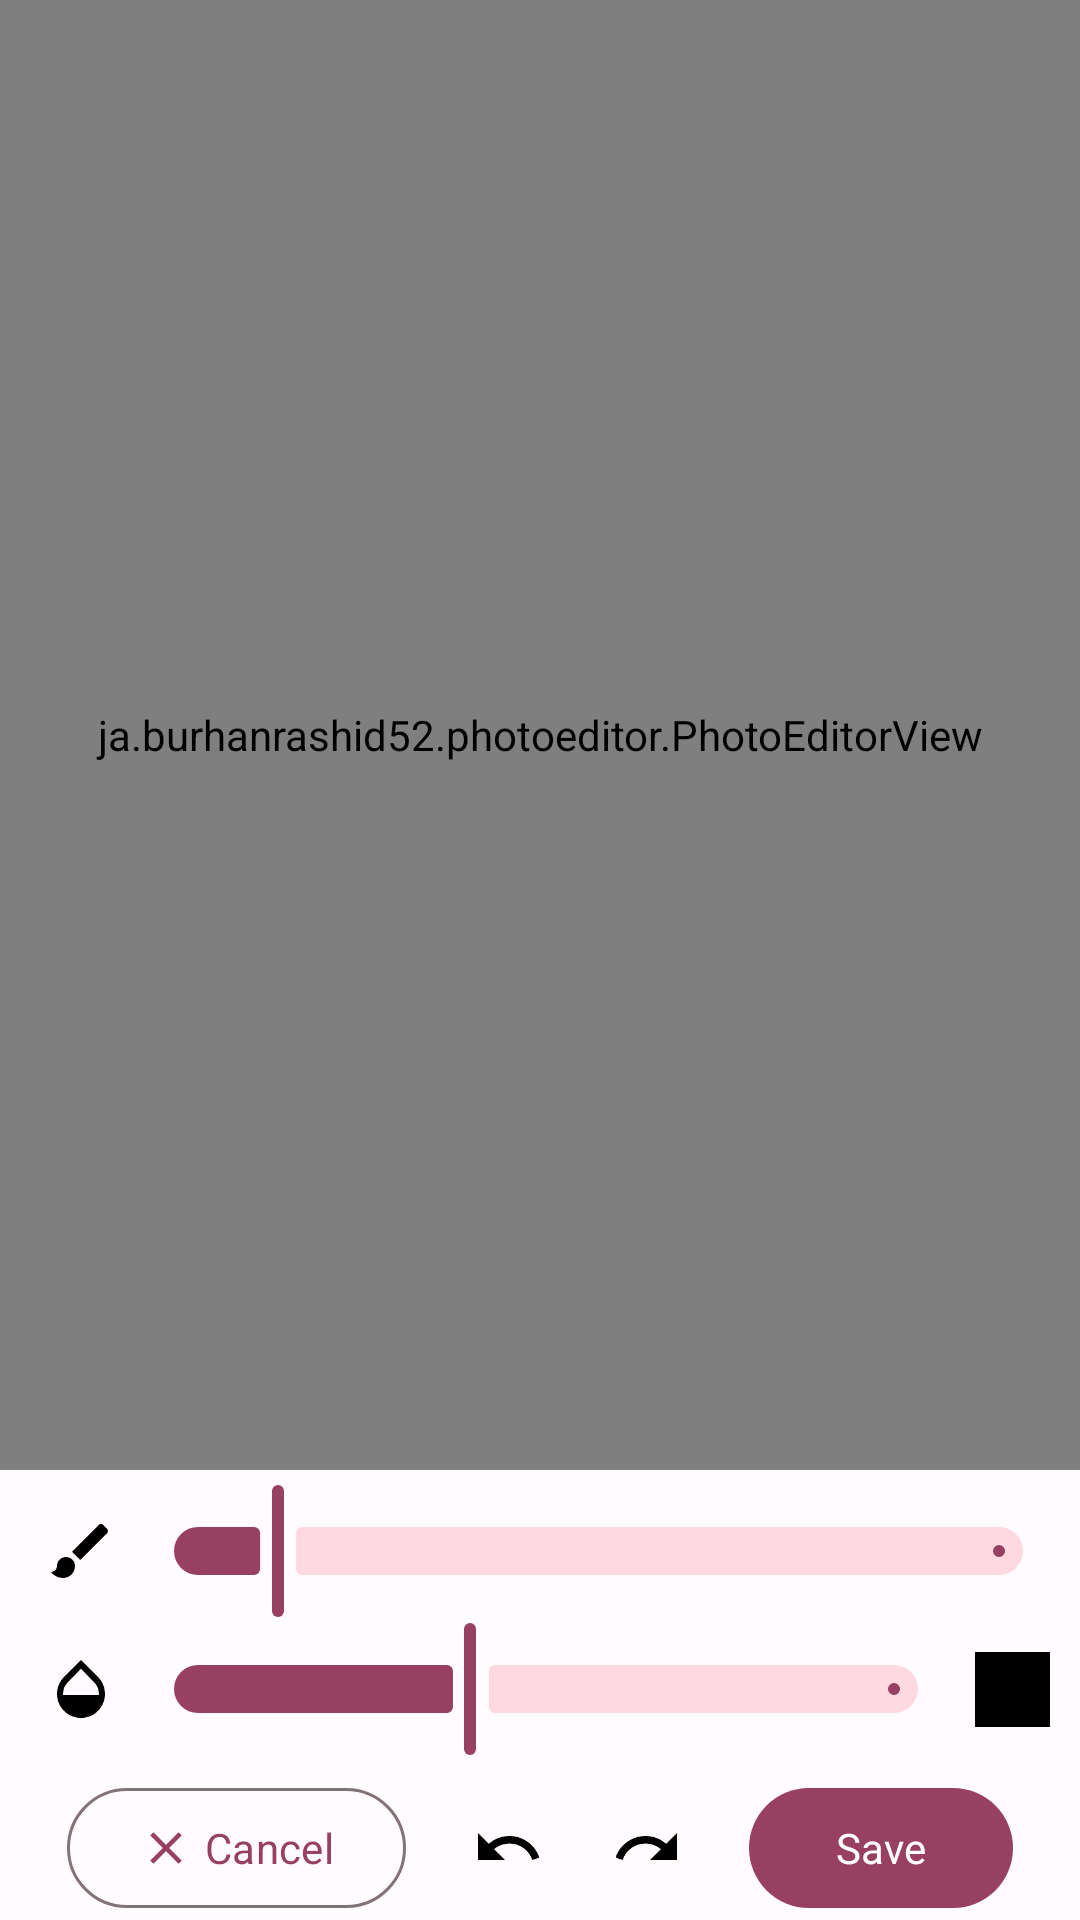

Screen size 1080 x 1920. Icon name, then its box in pixels as (x1, y1, x2, y2):
brush: (51, 1524, 108, 1578)
opacity: (57, 1660, 105, 1718)
redo: (616, 1833, 677, 1860)
undo: (478, 1833, 539, 1860)
